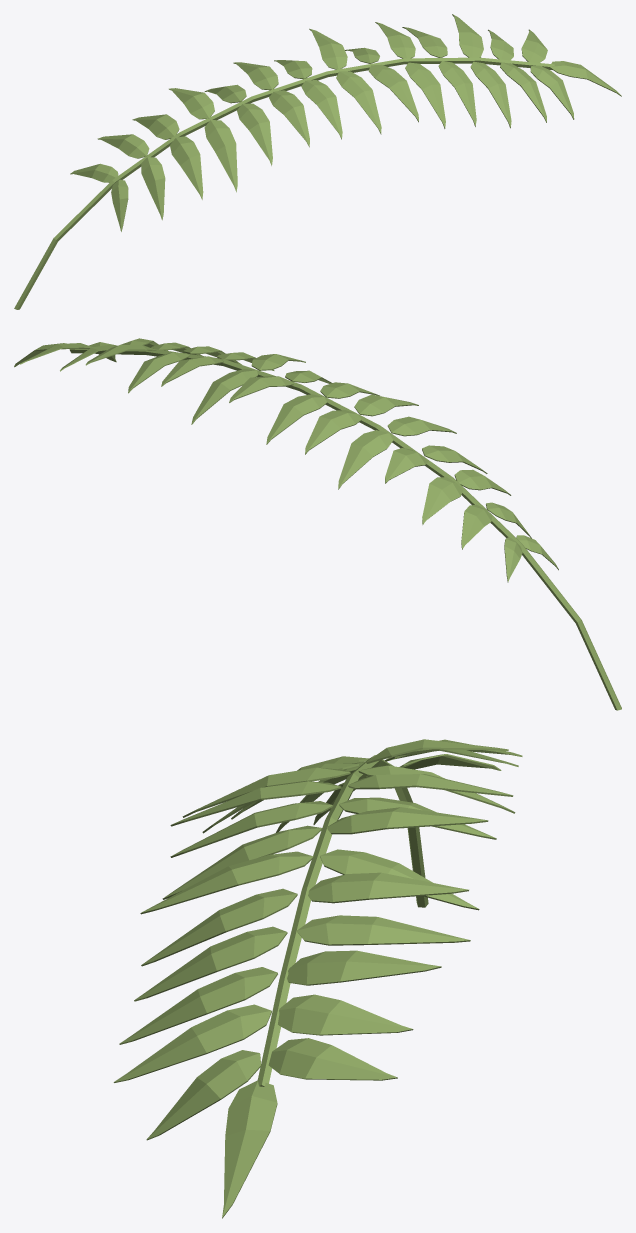
The model's file is ManleyPaige_FernSingleLeaf.fbx.
The picture shows the model from 3 angles, top to bottom: view 1: azimuth 30°, elevation 25°; view 2: azimuth 150°, elevation 25°; view 3: azimuth 270°, elevation 25°; orthographic projection. The views are drawn at different scales.
Visible parts, largest first — view 1: Leaves; view 2: Leaves; view 3: Leaves.
Part boxes in pixels (left/top/right/bottom): Leaves: left=14, top=14, right=621, bottom=309; Leaves: left=14, top=338, right=621, bottom=710; Leaves: left=113, top=739, right=522, bottom=1218.
Size of the model in its own units: 52.56 by 17.71 by 16.7.
